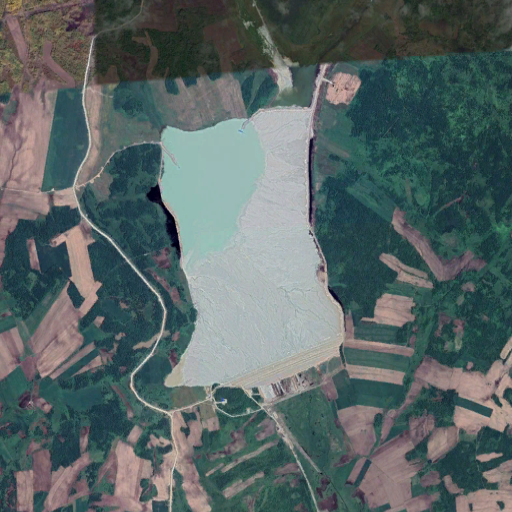tp: (157, 105, 342, 384)
